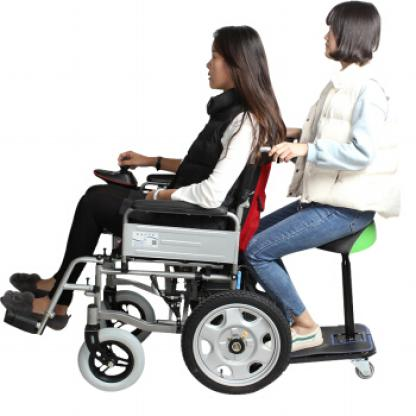wheelchair: (14, 26, 290, 396)
